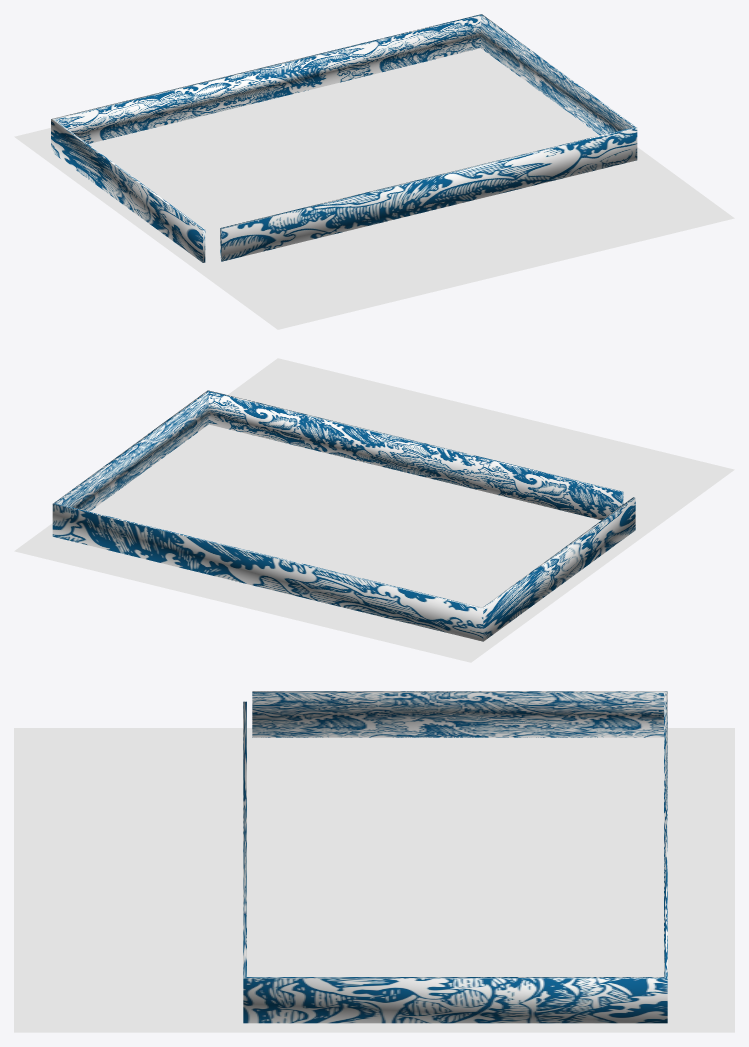
File: BakeTestv2.glb
The picture shows the model from 3 angles, top to bottom: view 1: azimuth 30°, elevation 25°; view 2: azimuth 150°, elevation 25°; view 3: azimuth 270°, elevation 25°; orthographic projection. The views are drawn at different scales.
Visible parts, largest first — view 1: Plane, Wall; view 2: Plane, Wall; view 3: Plane, Wall.
Boxes of the visible parts, left/top/right/bottom form: Plane: left=14, top=48, right=734, bottom=329; Wall: left=51, top=14, right=637, bottom=262; Plane: left=14, top=358, right=734, bottom=662; Wall: left=52, top=390, right=635, bottom=641; Plane: left=14, top=728, right=734, bottom=1032; Wall: left=243, top=691, right=667, bottom=1023.
Bounding box in the file's own units: 39.53 × 2.7 × 39.53.
Materials: 2 (1 with a texture image).
